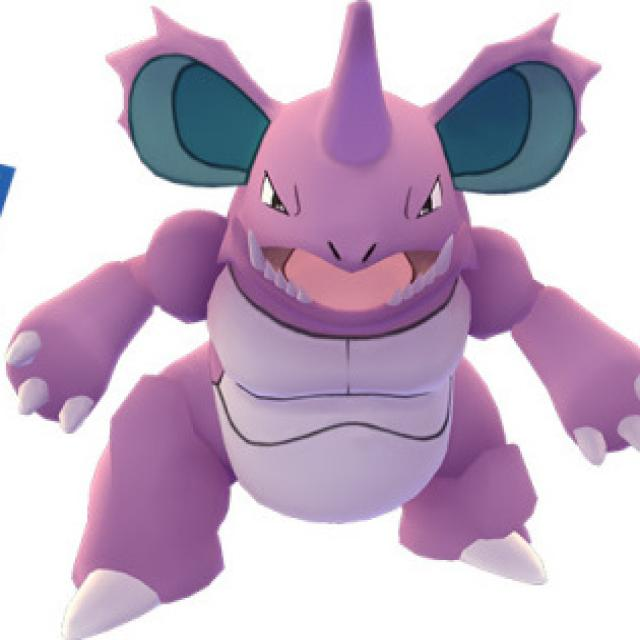Nidoking: (30, 0, 640, 635)
